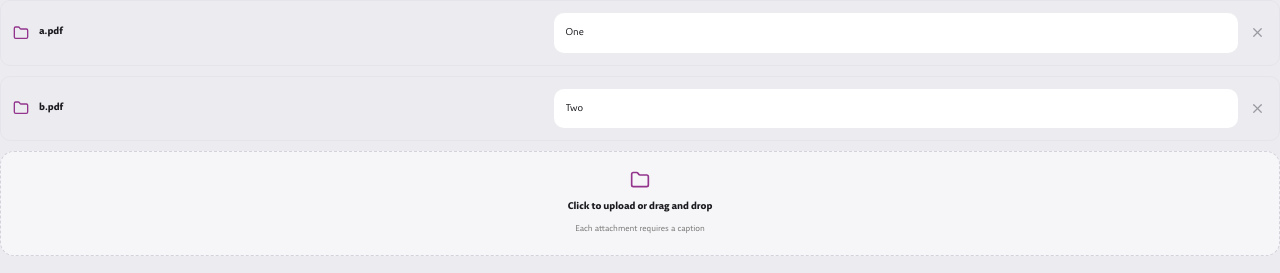
Test case: AttachmentList › removes a row via its remove control, leaving the others in order
The image size is (1280, 273).
Click the button without text in the row of "a.pdf": (1258, 33) [1248,23,1267,42]
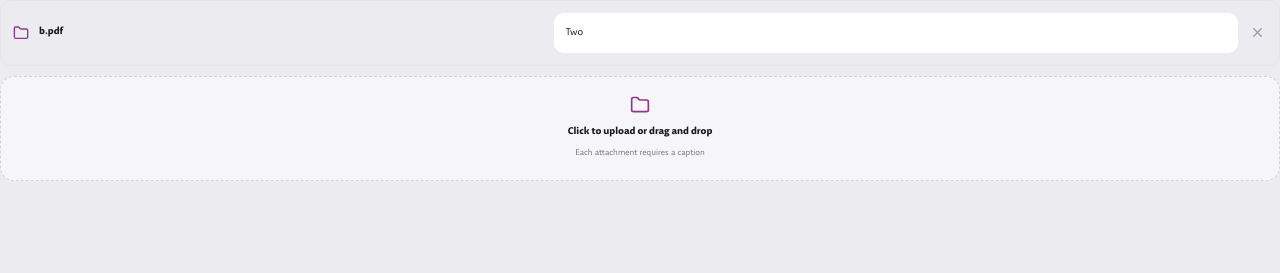
Expected: the text "b.pdf" is shown, [39,25,63,38]
Now the text "a.pdf" is gone
